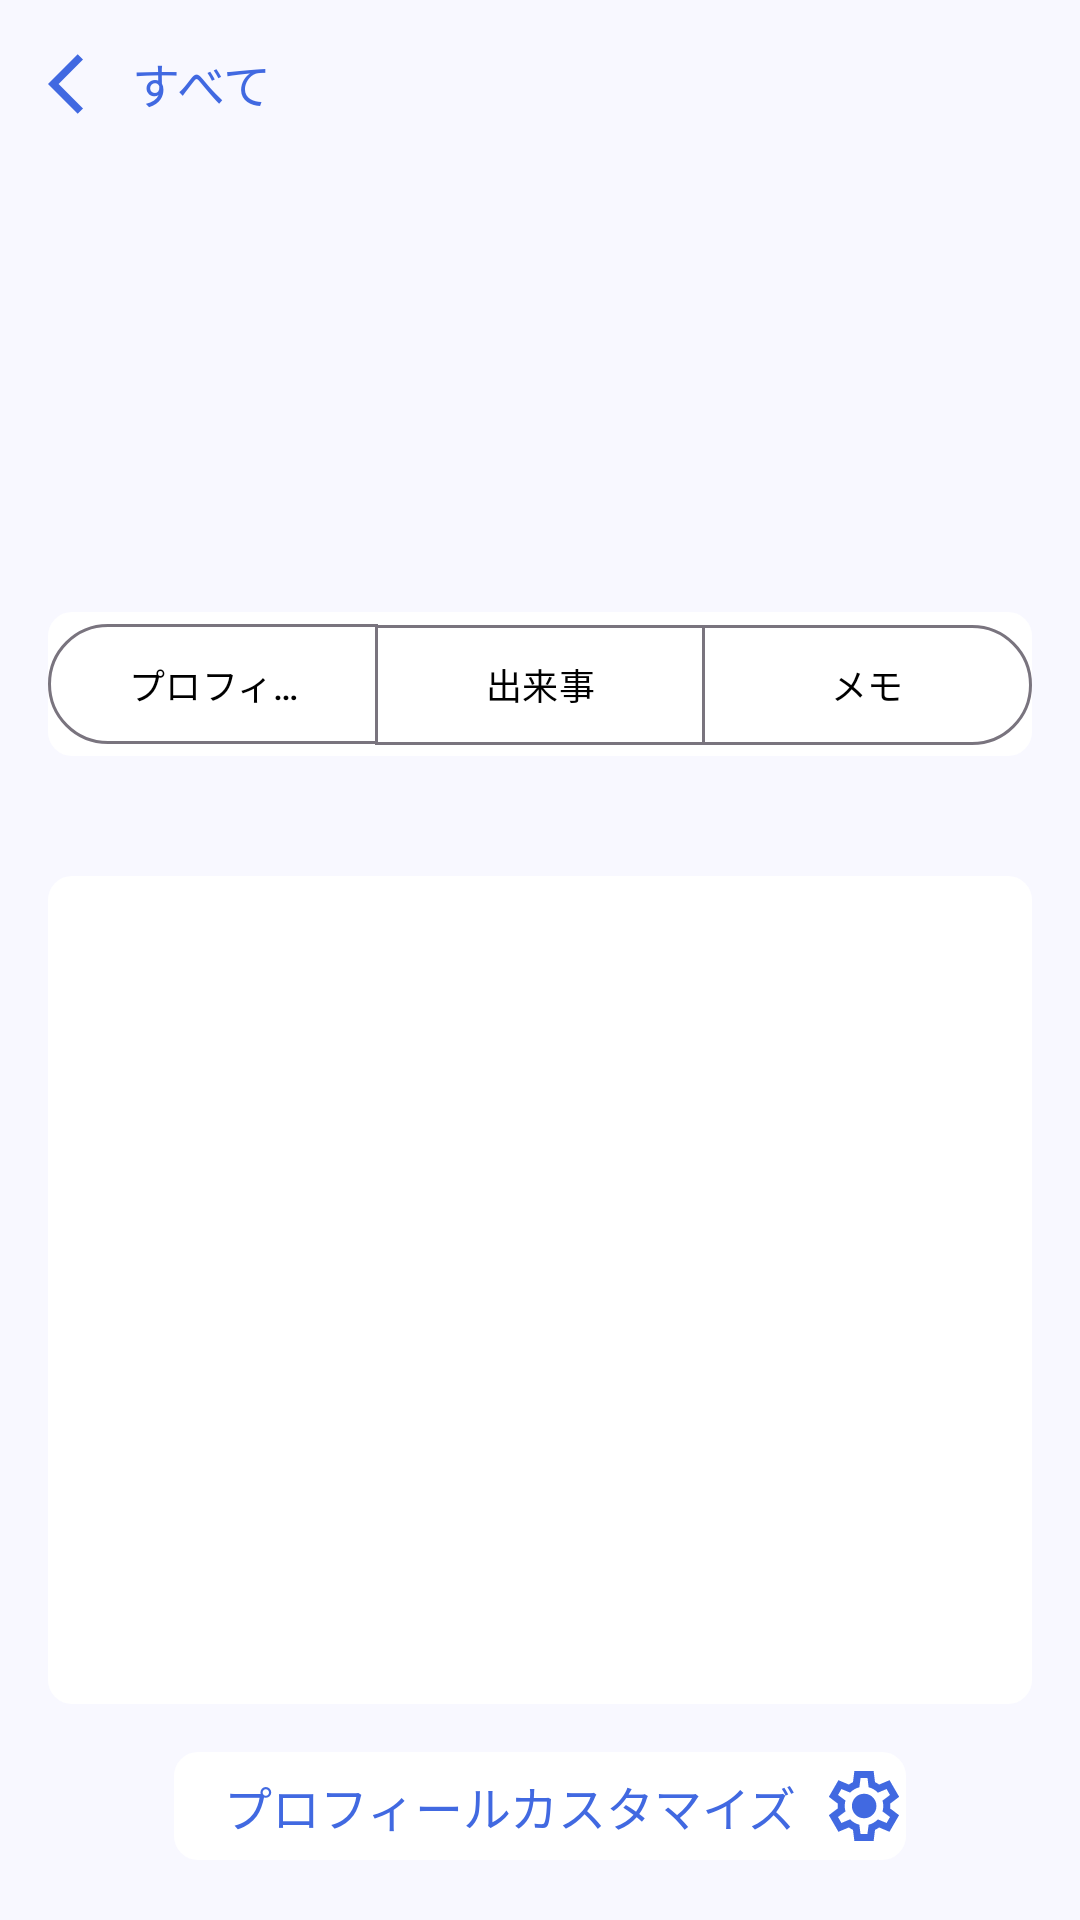

Icon bounding boxes for this 1080w x 1920h phone screenshot, format (x1, y1, x2, y2):
back: (48, 54, 83, 114)
settings ver: (829, 1771, 899, 1841)
